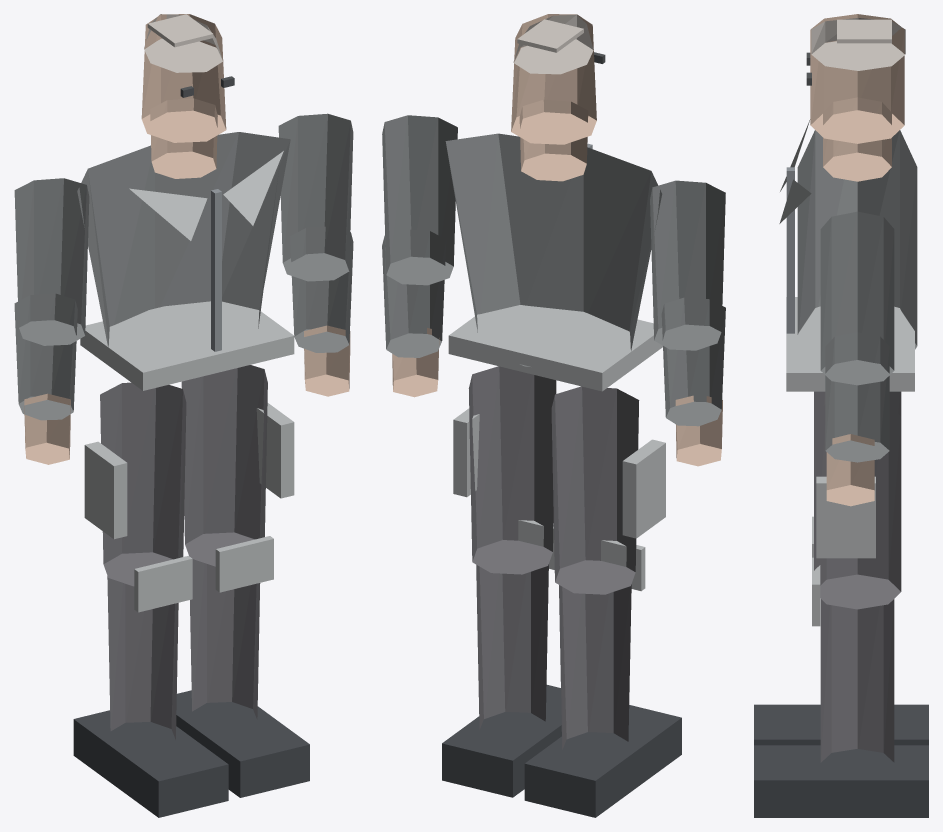
File: mystery_character_ash.glb
3 views of the same model, side by side, from view 1: azimuth 30°, elevation 25°; view 2: azimuth 150°, elevation 25°; view 3: azimuth 270°, elevation 25° (orthographic). The views are drawn at different scales.
Visible parts, largest first — view 1: Jacket, Thigh.R, Thigh.L, Hem, Shoe.L, UpperArm.R, UpperArm.L, Shin.L, Shin.R, Shoe.R, Forearm.L, Head (+12 smaller); view 2: Jacket, Thigh.R, Thigh.L, Hem, UpperArm.R, Shoe.L, UpperArm.L, Shin.L, Shin.R, Shoe.R, Forearm.L, Head (+10 smaller); view 3: Shoe.R, Jacket, Shin.R, UpperArm.R, Thigh.R, Head, Forearm.R, Hem, Shoe.L, Pocket.R, Neck, Hair (+6 smaller).
Part boxes in pixels (x1,y1,x2,y2): Jacket: (77,132,290,347); Thigh.R: (181,365,267,566); Thigh.L: (100,382,186,586); Hem: (80,301,294,390); Shoe.L: (73,710,228,817); UpperArm.R: (278,113,353,281); UpperArm.L: (14,178,89,345); Shin.L: (107,576,178,739); Shin.R: (190,559,260,719); Shoe.R: (176,690,309,797); Forearm.L: (14,293,77,420); Head: (141,14,226,142); Jacket: (445,133,662,366); Thigh.R: (468,366,556,574); Thigh.L: (551,386,639,594); Hem: (448,305,662,391); UpperArm.R: (382,115,457,285); Shoe.L: (524,705,681,817); UpperArm.L: (650,180,725,350); Shin.L: (559,584,631,749); Shin.R: (476,564,548,730); Shoe.R: (442,685,561,797); Forearm.L: (661,297,725,426); Head: (511,14,596,144); Shoe.R: (754,745,928,817); Jacket: (797,130,917,349); Shin.R: (820,599,894,762); UpperArm.R: (820,211,894,385); Thigh.R: (814,404,901,609); Head: (810,14,904,143); Forearm.R: (825,332,889,462); Hem: (786,297,914,391); Shoe.L: (754,704,928,745); Pocket.R: (816,476,875,558); Neck: (823,97,891,181); Hair: (811,18,905,70).
Bounding box in the file's own units: 0.86 × 1.8 × 0.38.
